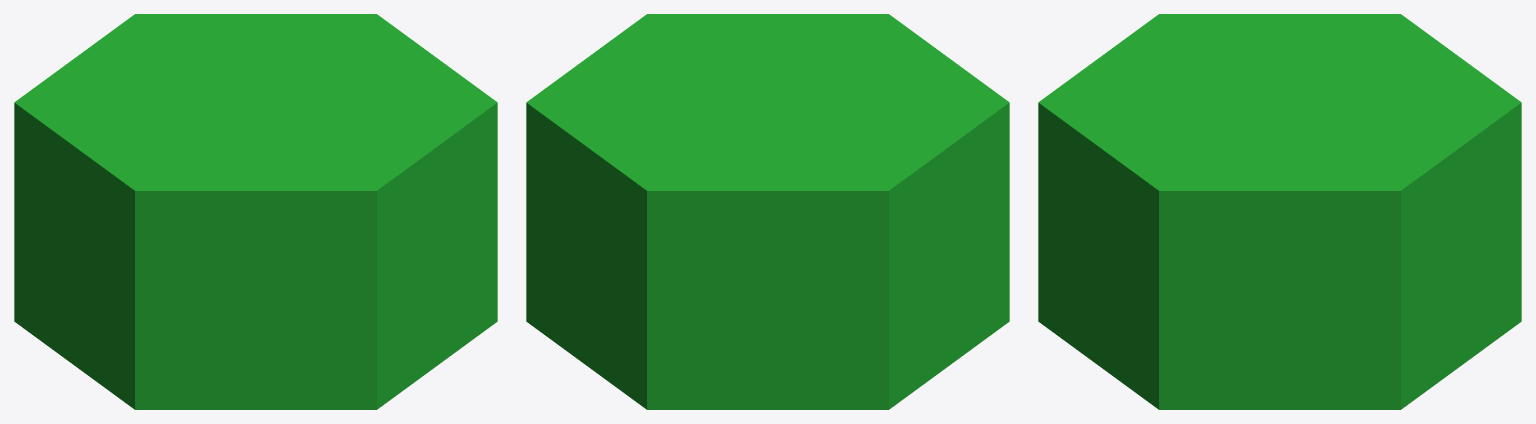
The model's file is module-corner_land.glb.
The picture shows the model from 3 angles, left to right: view 1: azimuth 30°, elevation 25°; view 2: azimuth 150°, elevation 25°; view 3: azimuth 270°, elevation 25°; orthographic projection.
Parts seen in each view (by area): view 1: module-corner_land; view 2: module-corner_land; view 3: module-corner_land.
Boxes of the visible parts, box(x1,y1,x2,y2) form: module-corner_land: box(14, 14, 497, 409); module-corner_land: box(526, 14, 1009, 409); module-corner_land: box(1038, 14, 1521, 409).
Size of the model in its own units: 0.866 by 0.5 by 1.
